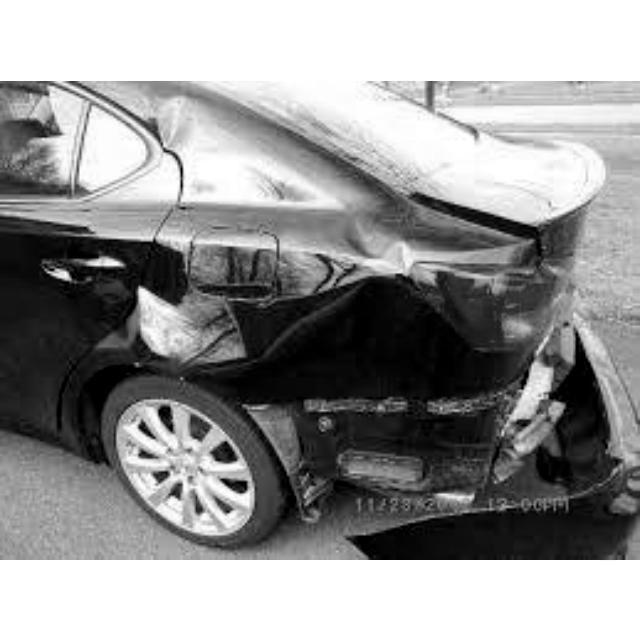quaterpanel-dent: (99, 221, 415, 401)
rear-bumper-dent: (381, 394, 633, 522)
